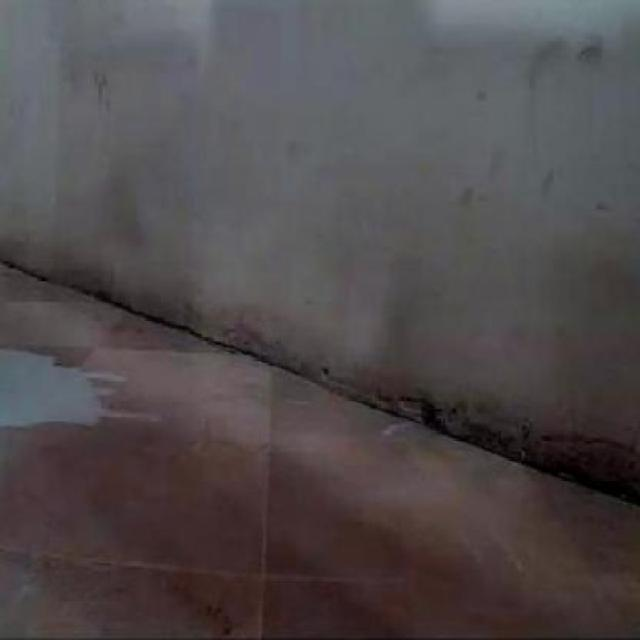spillage: (0, 350, 150, 430)
